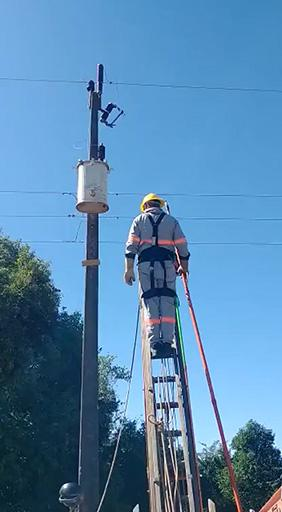Vara_Manobra: (163, 203, 241, 512)
